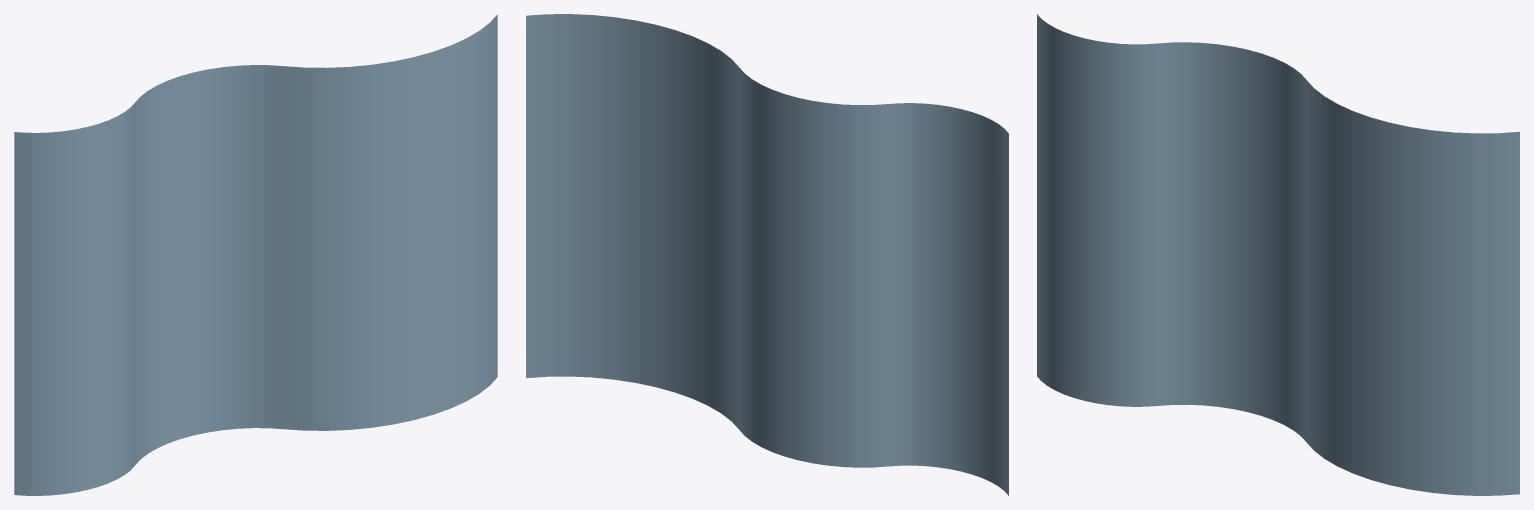
The picture shows the model from 3 angles, left to right: view 1: azimuth 30°, elevation 25°; view 2: azimuth 150°, elevation 25°; view 3: azimuth 330°, elevation 25°; orthographic projection.
Visible parts, largest first — view 1: Group 284; view 2: Group 284; view 3: Group 284.
Part boxes in pixels (x1,y1,x2,y2): Group 284: (14, 14, 497, 495); Group 284: (526, 14, 1008, 495); Group 284: (1037, 14, 1519, 495).
Bounding box in the file's own units: 105 × 75 × 14.75.
